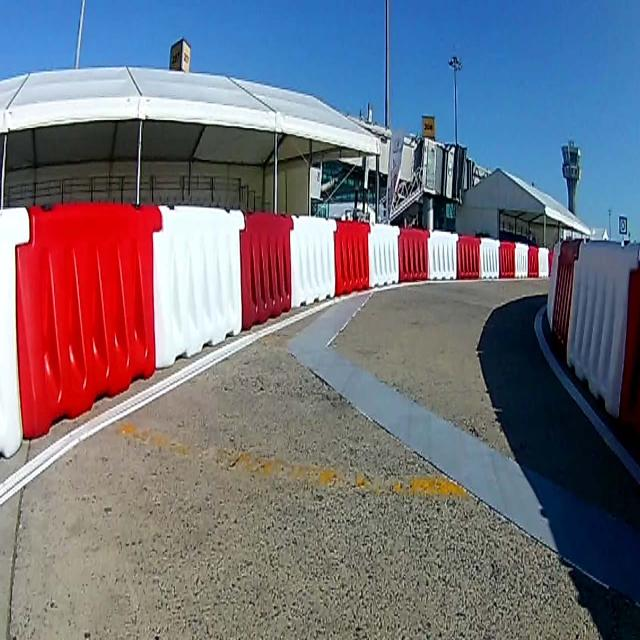durak: (620, 213, 626, 234)
